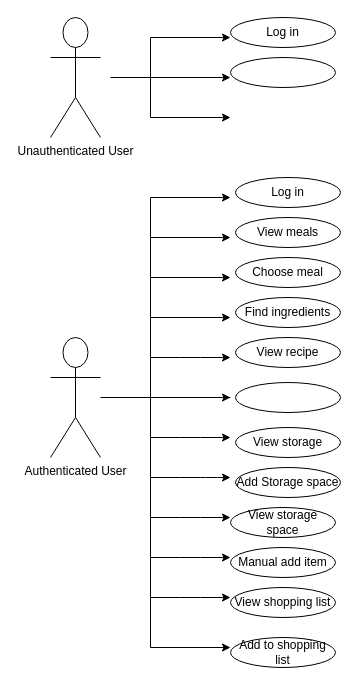
Image size: 358x685. Some labels were removed from this diagram. Here are the shapes that lost their labels. From the top down, the centre of each, then its label:
At point (283, 72): "sign up".
At point (287, 397): "Add recipe".
